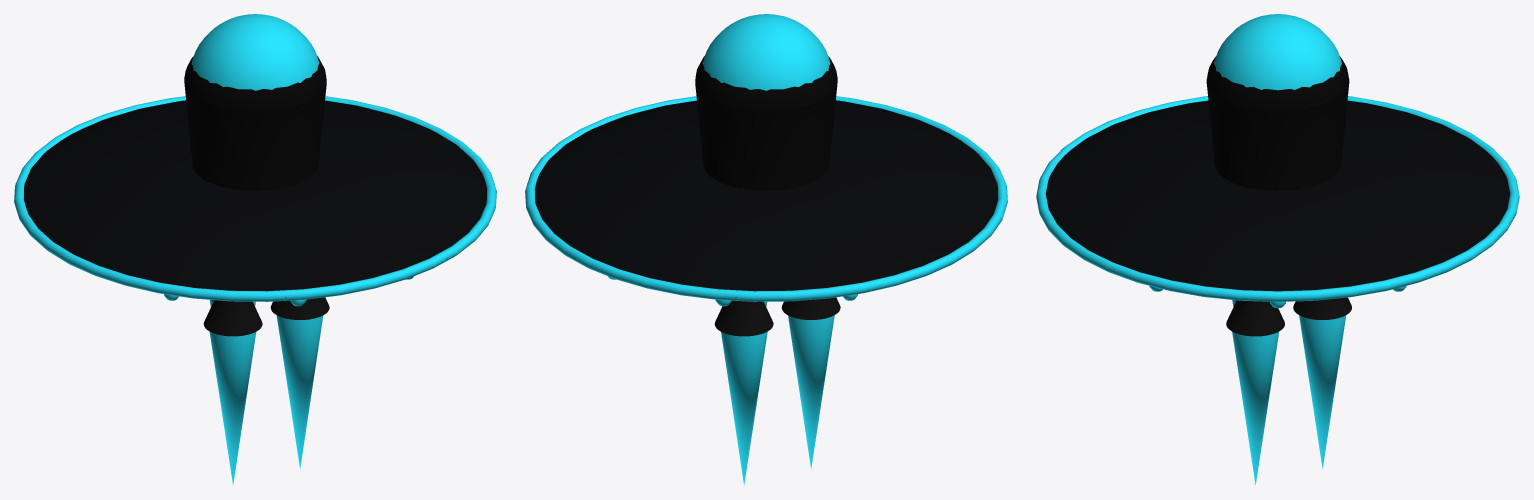
File: Rocket_32_VoidSaucer.obj
The picture shows the model from 3 angles, left to right: view 1: azimuth 30°, elevation 25°; view 2: azimuth 150°, elevation 25°; view 3: azimuth 270°, elevation 25°; orthographic projection.
Parts seen in each view (by area): view 1: R32_Saucer, R32_Body, R32_SaucerGlow, R32_Dome, R32_Flame_3, R32_Flame_2, R32_Nose, R32_Nozzle_2, R32_Nozzle_3; view 2: R32_Saucer, R32_Body, R32_SaucerGlow, R32_Dome, R32_Flame_1, R32_Flame_2, R32_Nose, R32_Nozzle_1, R32_Nozzle_2; view 3: R32_Saucer, R32_Body, R32_SaucerGlow, R32_Dome, R32_Flame_3, R32_Flame_1, R32_Nose, R32_Nozzle_3, R32_Nozzle_1.
Boxes of the visible parts, x1,y1,x2,y2 form: R32_Saucer: (24,100,487,297); R32_Body: (184,84,326,190); R32_SaucerGlow: (14,96,496,301); R32_Dome: (191,14,319,90); R32_Flame_3: (276,315,323,469); R32_Flame_2: (209,332,256,485); R32_Nose: (184,56,326,110); R32_Nozzle_2: (203,300,262,336); R32_Nozzle_3: (270,297,329,319); R32_Saucer: (534,100,997,297); R32_Body: (695,84,837,190); R32_SaucerGlow: (525,96,1007,301); R32_Dome: (702,14,830,90); R32_Flame_1: (721,331,767,485); R32_Flame_2: (788,315,834,469); R32_Nose: (695,56,837,110); R32_Nozzle_1: (714,300,773,336); R32_Nozzle_2: (781,297,840,319); R32_Saucer: (1045,100,1510,291); R32_Body: (1206,82,1349,190); R32_SaucerGlow: (1036,96,1519,301); R32_Dome: (1214,14,1341,90); R32_Flame_3: (1232,331,1279,484); R32_Flame_1: (1299,315,1346,468); R32_Nose: (1206,56,1349,110); R32_Nozzle_3: (1226,300,1284,336); R32_Nozzle_1: (1293,297,1351,319).
Size of the model in its own units: 5.41 by 5.55 by 5.41.
